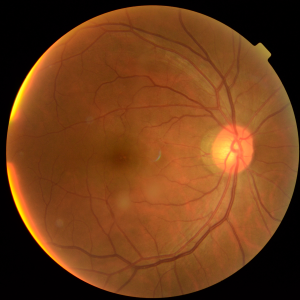healthy_eye: (53, 85, 275, 206)
